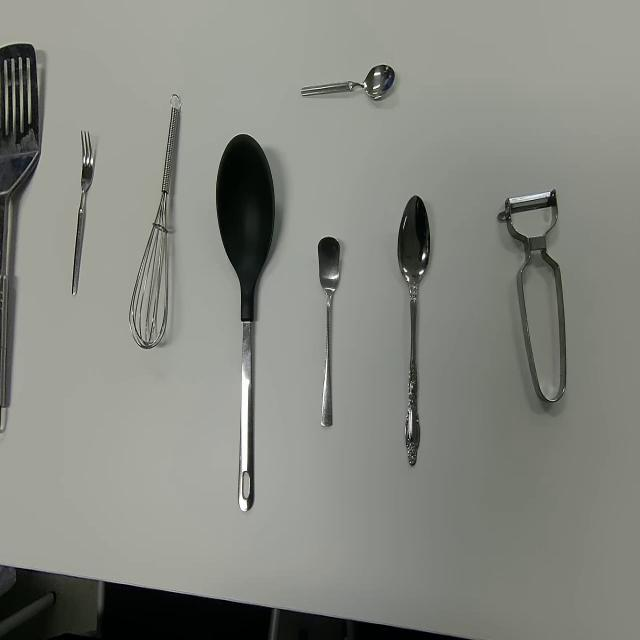Desert-Spoon: (397, 194, 431, 469)
Dinner-Fork: (70, 128, 94, 298)
Peeler: (497, 187, 567, 405)
Serving-Spoon: (215, 132, 276, 514), (0, 41, 40, 440)
Tea-Spoon: (317, 234, 341, 430), (300, 62, 396, 101)
Whisk: (128, 92, 182, 350)
